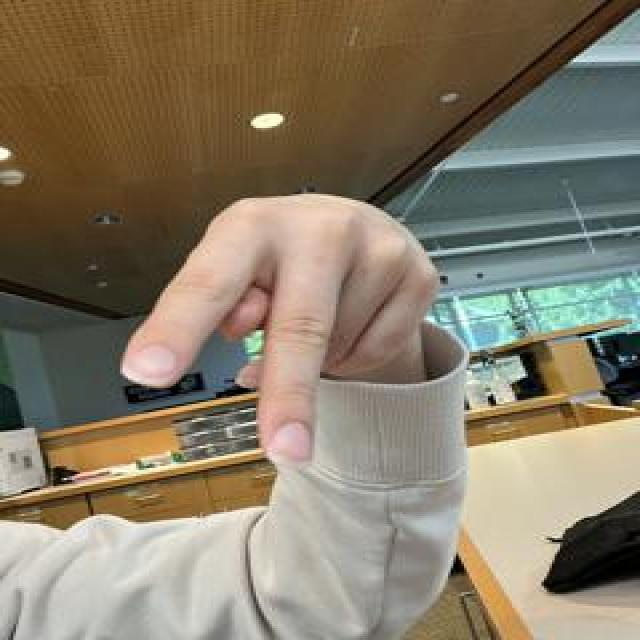P: (112, 184, 451, 472)
